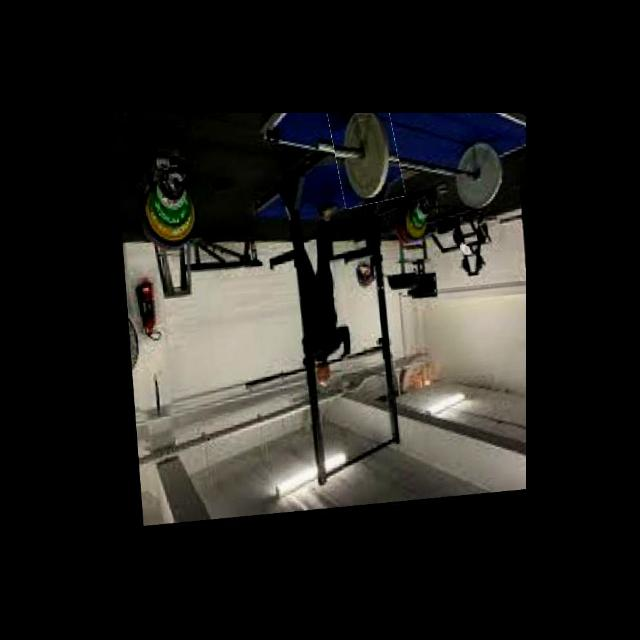barbell: (329, 113, 401, 213)
